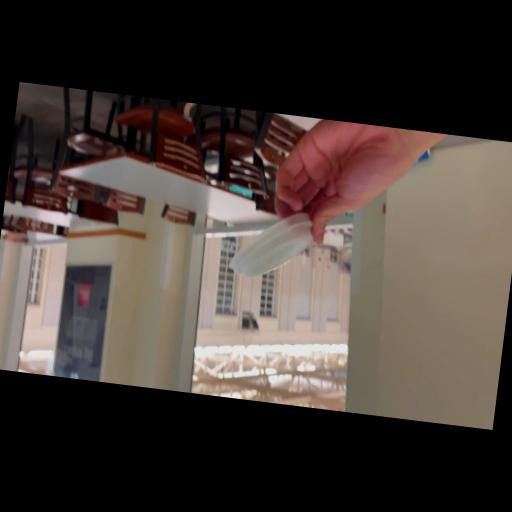lp_cup_lids: (227, 207, 319, 289)
